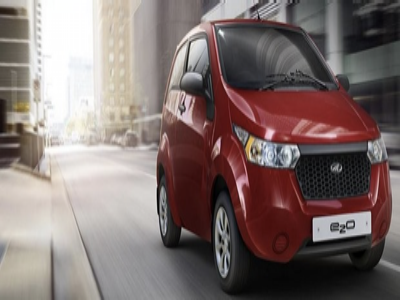licence: (313, 213, 371, 237)
